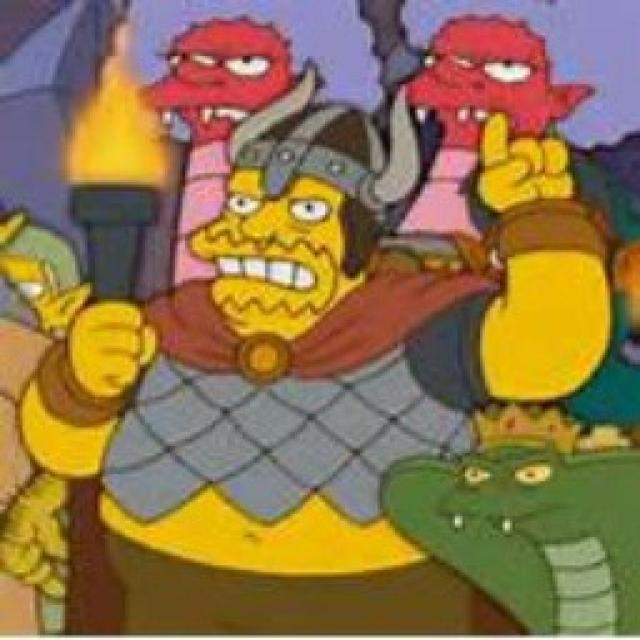Comic Book Guy: (176, 158, 394, 347)
